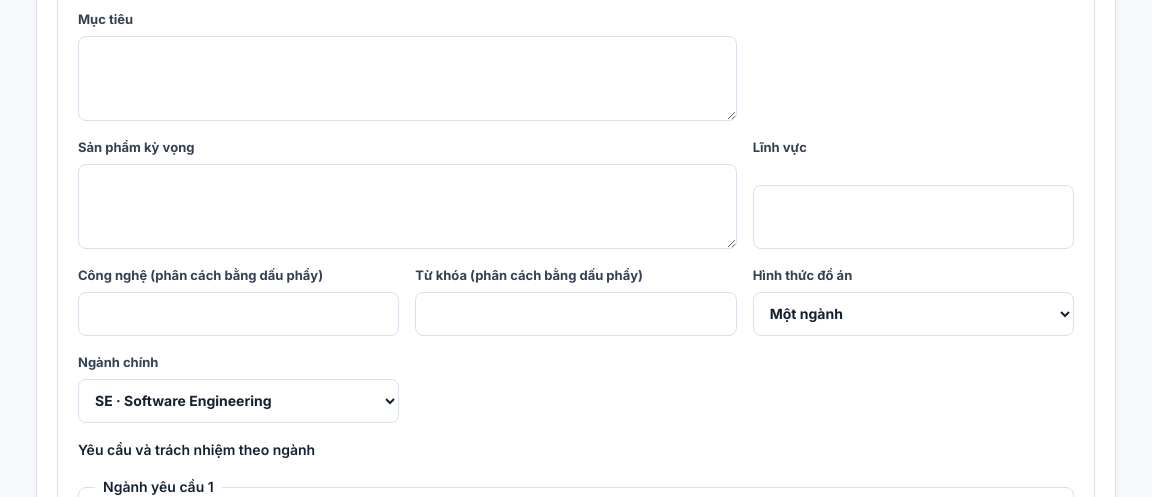
TopicManagementPage › rejects an incomplete interdisciplinary scope before submitting
The image size is (1152, 497).
(page scrolled)
Select "Liên ngành" in the dropdown labelled "Hình thức đồ án" at (913, 314), box [753,292,1074,336]
(page scrolled)
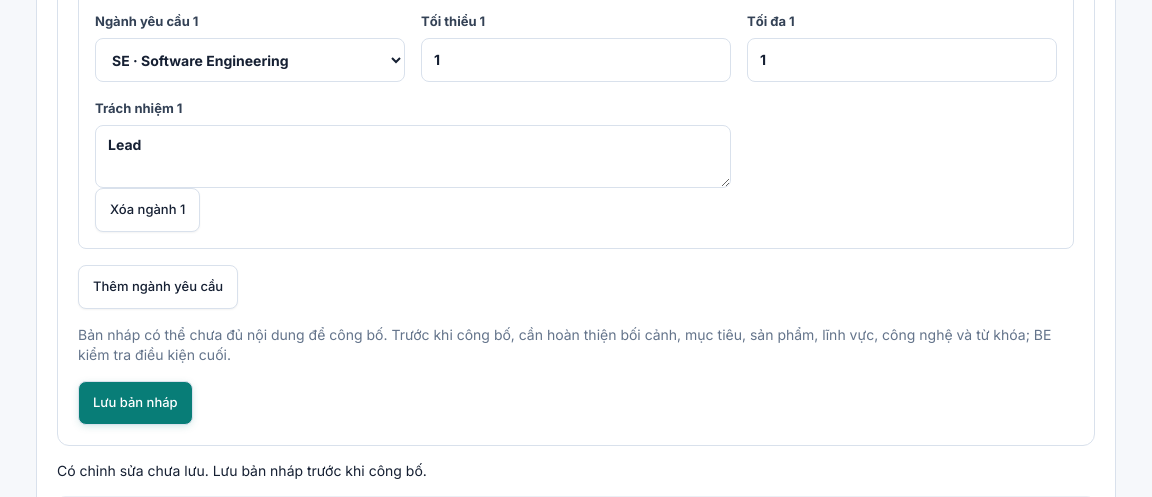
Click the button "Lưu bản nháp" at (135, 403), box [78,381,193,425]
(page scrolled)
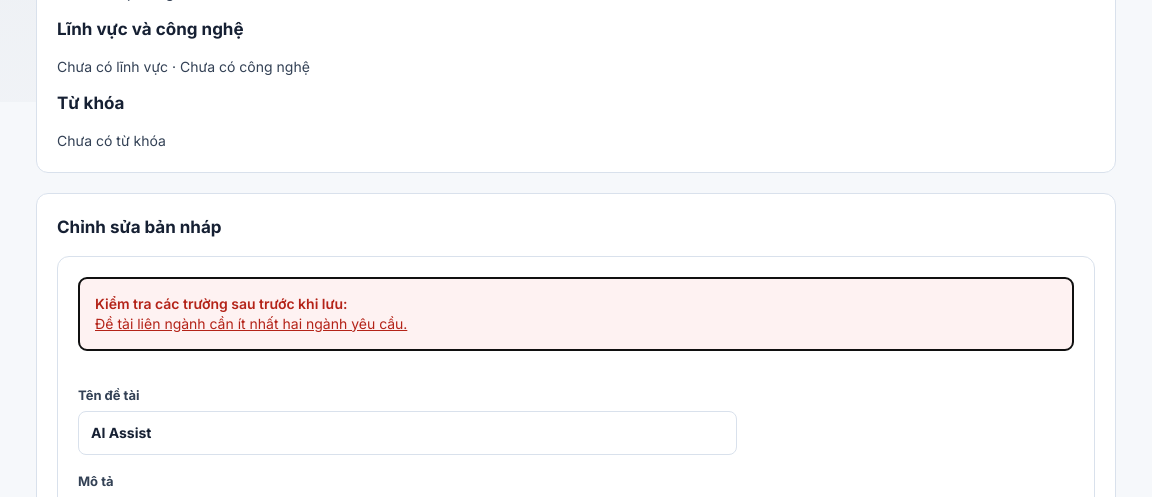
Expected: the message shows "ít nhất hai ngành", [95,314,407,332]
